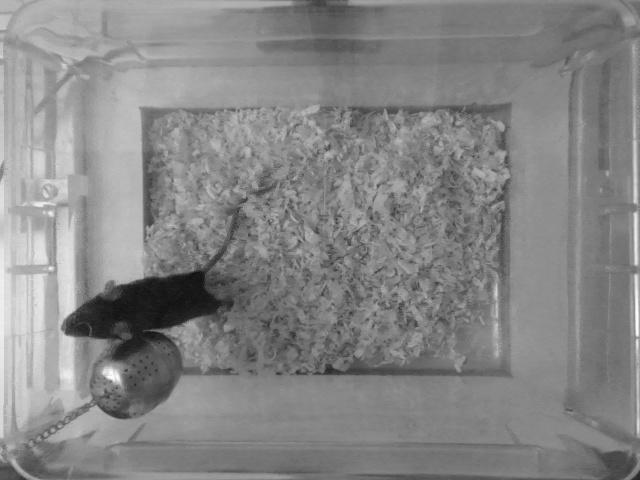mice: (60, 206, 260, 347)
